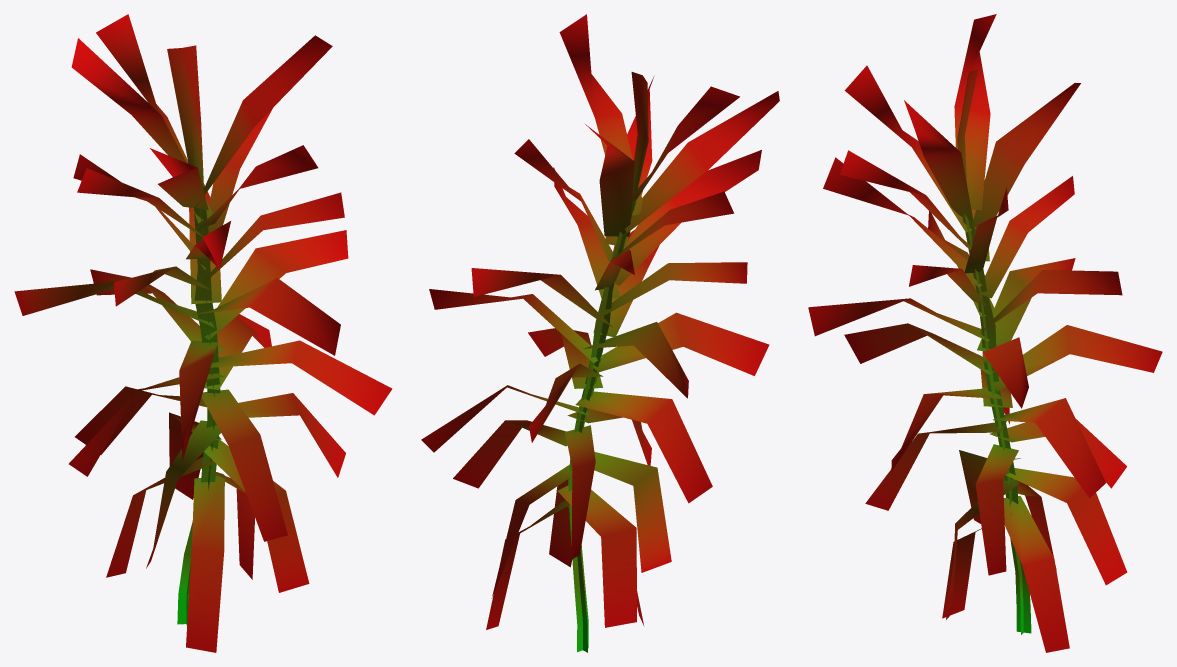
File: Dragon Tree_LOD2_Var4_siumT.fbx
3 views of the same model, side by side, from view 1: azimuth 30°, elevation 25°; view 2: azimuth 150°, elevation 25°; view 3: azimuth 270°, elevation 25° (orthographic). The views are drawn at different scales.
Visible parts, largest first — view 1: _1846_Var4_LOD2; view 2: _1846_Var4_LOD2; view 3: _1846_Var4_LOD2.
Boxes of the visible parts, <box> form: _1846_Var4_LOD2: <box>14,14,392,652</box>; _1846_Var4_LOD2: <box>421,14,779,652</box>; _1846_Var4_LOD2: <box>808,14,1162,652</box>.
Size of the model in its own units: 44.73 by 87.57 by 49.85.
